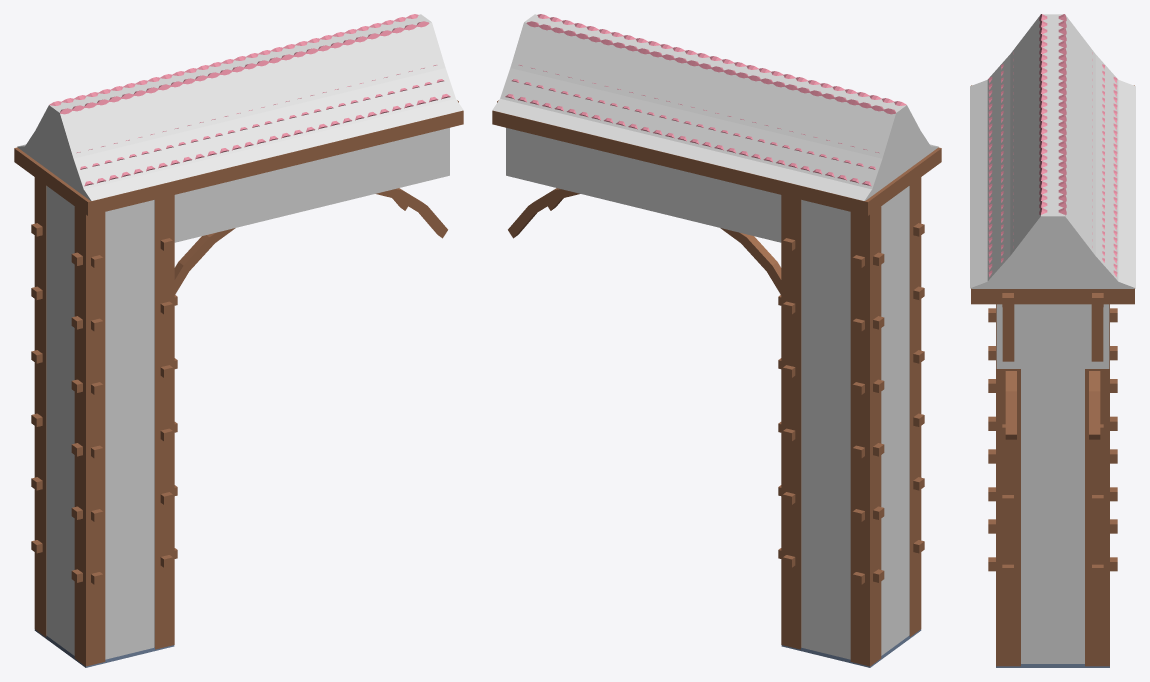
The model's file is building#5.fbx.
3 views of the same model, side by side, from view 1: azimuth 30°, elevation 25°; view 2: azimuth 150°, elevation 25°; view 3: azimuth 270°, elevation 25° (orthographic). The views are drawn at different scales.
Visible parts, largest first — view 1: COLLIDEER, COLLIDEER.001, Graplle, roof tiles, tower, support beams.001, block sepeeeereator.009; view 2: COLLIDEER, COLLIDEER.001, Graplle, roof tiles, tower, support beams.001, block sepeeeereator.009; view 3: COLLIDEER.001, COLLIDEER, Graplle, roof tiles, tower, side tower, support beams.001, block sepeeeereator.009.
Boxes of the visible parts, box(x1,y1,x2,y2) form: COLLIDEER: box(46, 128, 449, 659); COLLIDEER.001: box(17, 14, 463, 200); Graplle: box(14, 110, 463, 666); roof tiles: box(49, 14, 450, 186); tower: box(31, 223, 177, 521); support beams.001: box(174, 188, 447, 294); block sepeeeereator.009: box(31, 540, 177, 667); COLLIDEER: box(506, 128, 909, 659); COLLIDEER.001: box(492, 14, 938, 200); Graplle: box(492, 110, 941, 666); roof tiles: box(505, 14, 906, 186); tower: box(778, 223, 924, 521); support beams.001: box(508, 188, 781, 294); block sepeeeereator.009: box(778, 540, 924, 667); COLLIDEER.001: box(970, 14, 1135, 288); COLLIDEER: box(996, 304, 1109, 663); Graplle: box(971, 85, 1134, 666); roof tiles: box(988, 14, 1117, 276); tower: box(988, 308, 1117, 507); side tower: box(1002, 293, 1103, 361); support beams.001: box(1002, 369, 1103, 439); block sepeeeereator.009: box(988, 519, 1117, 667).
Bounding box in the file's own units: 3957 × 5341 × 1327.
